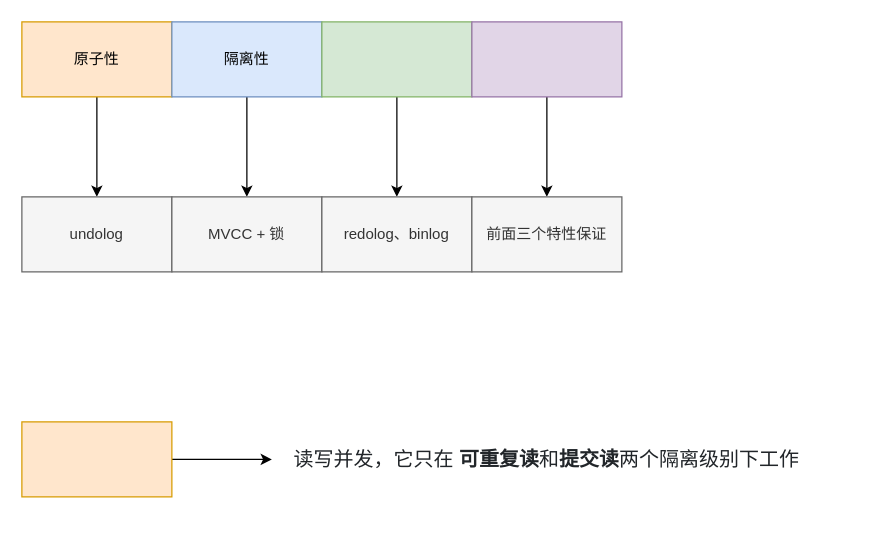
The diagram is 875 pixels wide and 534 high, and some of its shapes have lost their labels. Each missing label, with the centre of its shape:
MVCC: (96,459)
一致性: (546,59)
持久性: (396,59)
